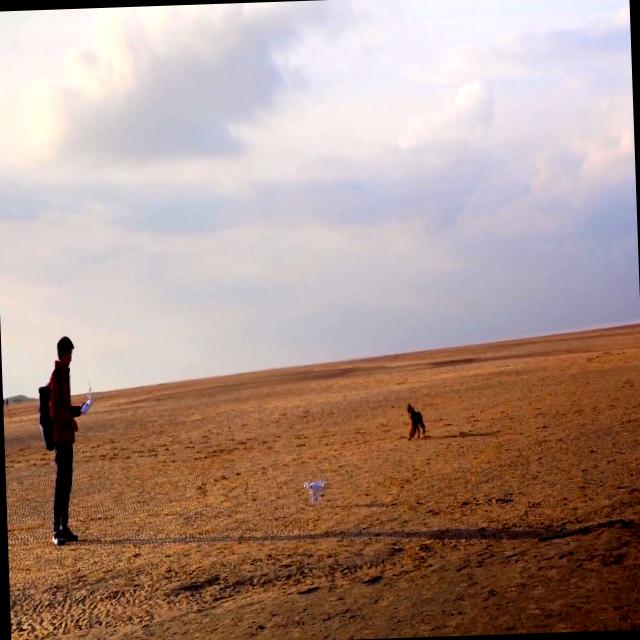drone: (300, 475, 329, 506)
